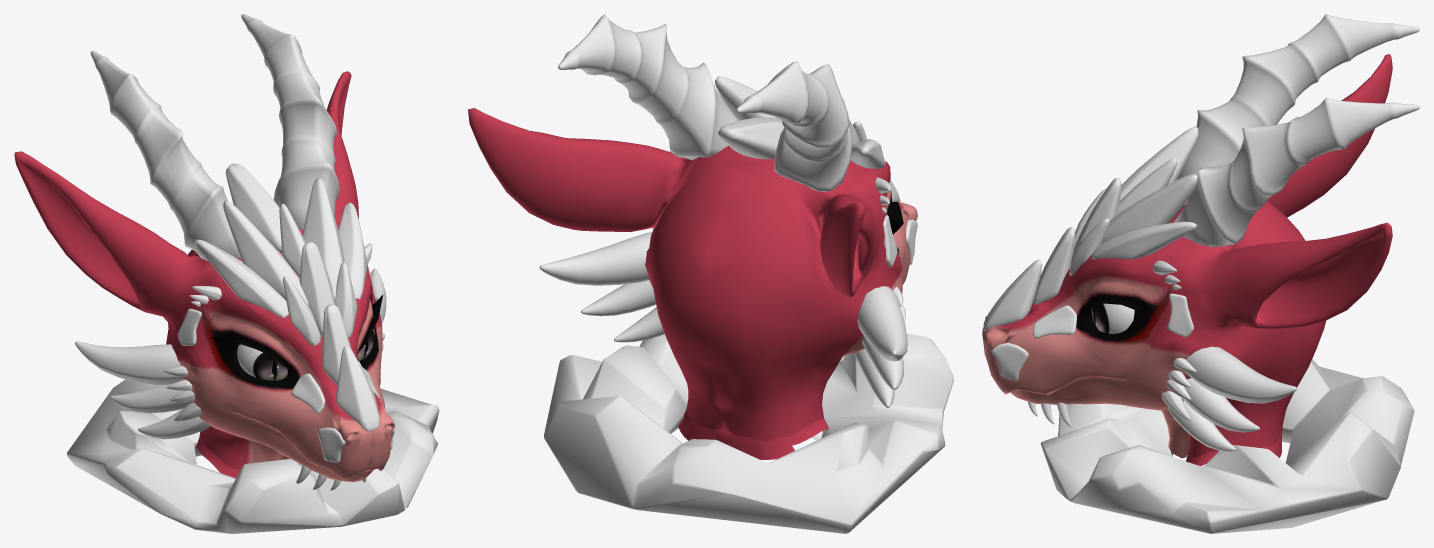
Rendered from DragonBuried.fbx.
3 renders of one model, left to right at view 1: azimuth 30°, elevation 25°; view 2: azimuth 150°, elevation 25°; view 3: azimuth 270°, elevation 25°, orthographic. The views are drawn at different scales.
Parts seen in each view (by area): view 1: body.002, body, EggMesh, eye; view 2: body, EggMesh, body.002; view 3: body, body.002, EggMesh, eye.
Boxes of the visible parts, bbox=[...] form: body.002: bbox=[75, 14, 394, 490]; body: bbox=[14, 71, 394, 481]; EggMesh: bbox=[67, 379, 439, 533]; eye: bbox=[237, 329, 374, 380]; body: bbox=[468, 108, 917, 459]; EggMesh: bbox=[544, 334, 953, 533]; body.002: bbox=[539, 14, 917, 407]; body: bbox=[982, 54, 1392, 465]; body.002: bbox=[983, 14, 1419, 451]; EggMesh: bbox=[1040, 359, 1414, 533]; eye: bbox=[1091, 303, 1134, 333].
Bounding box in the file's own units: 376 × 394 × 420.
